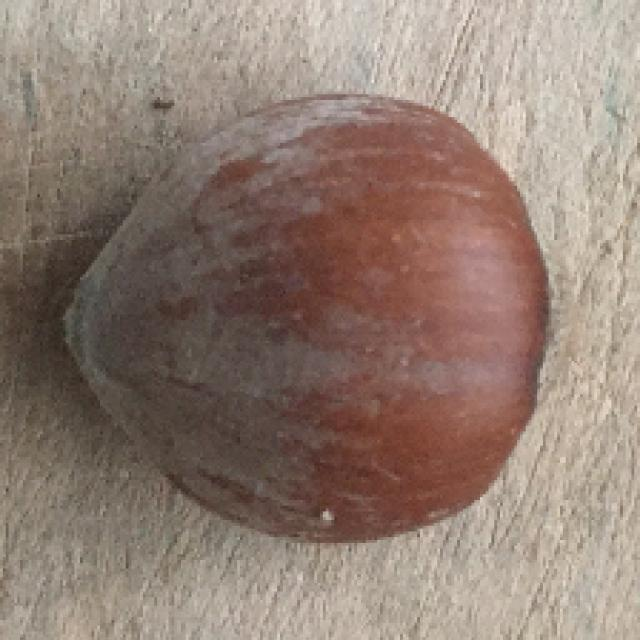qualityHazelnut: (57, 99, 549, 540)
